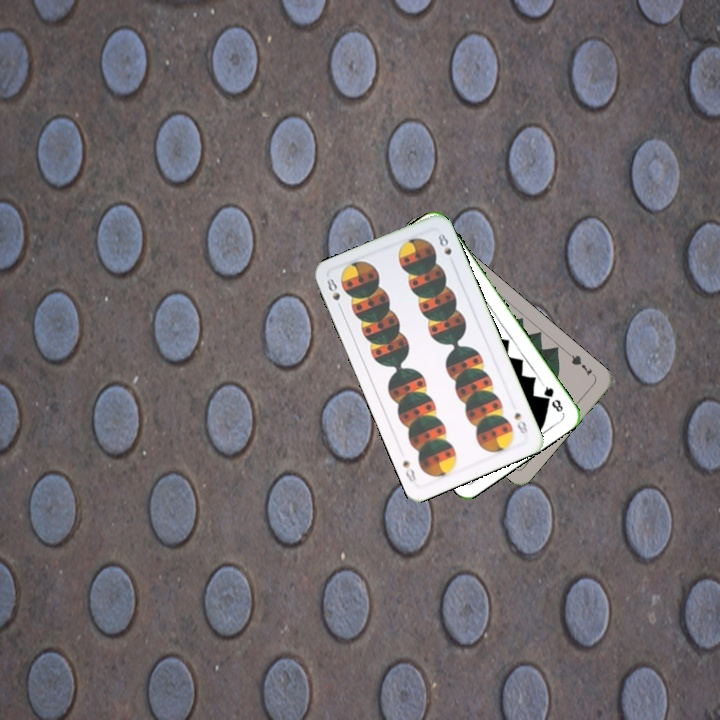G7: (564, 349, 598, 380)
G8: (538, 380, 566, 415)
S8: (322, 274, 345, 313), (510, 408, 530, 436)
